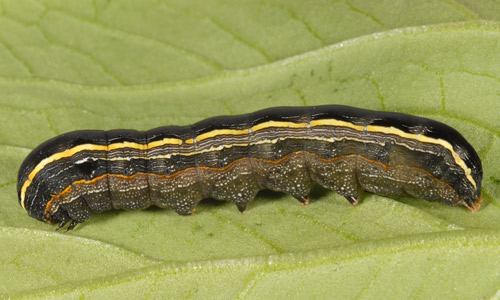Armyworm: (22, 99, 491, 239)
